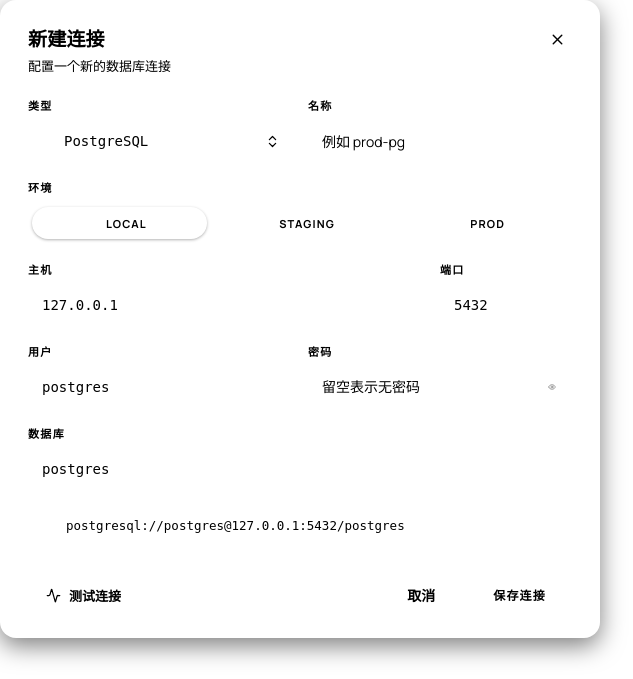
Test: test connection: rejects -> error state showing the real message
Click the button "测试连接" at (84, 595), box [28,576,139,614]
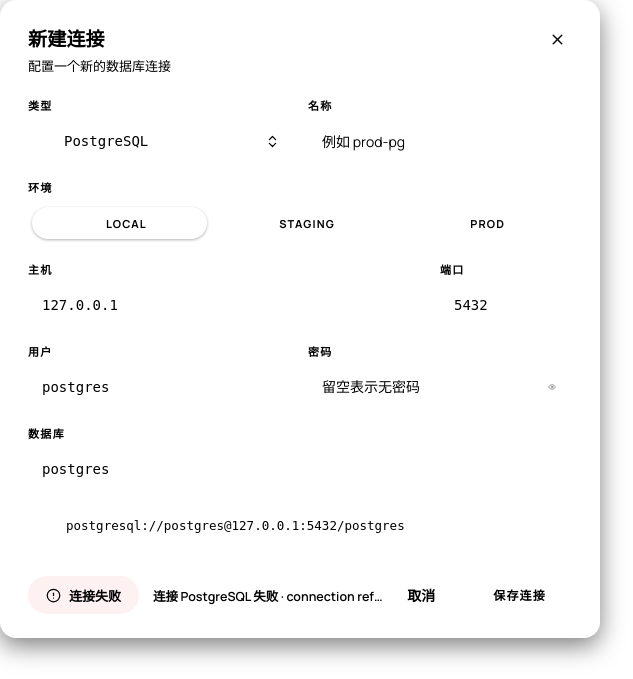
Result: the button "连接失败" is shown at [28,576,139,614]
Result: the text "连接 PostgreSQL 失败 · connection refused" is shown at [153,586,385,604]
